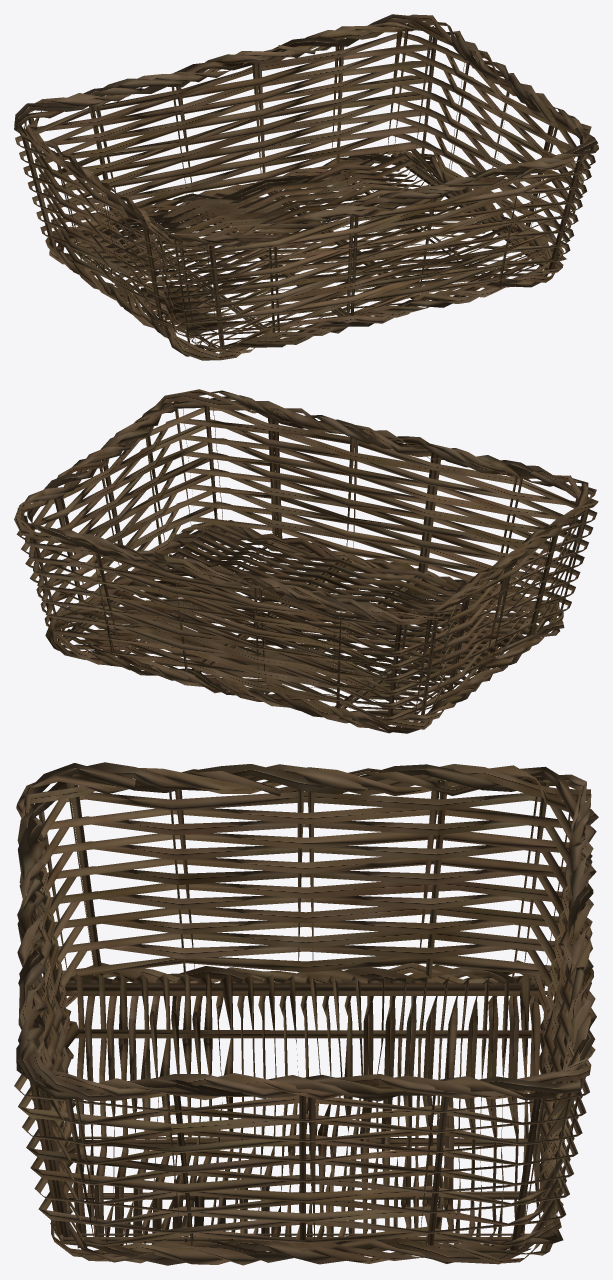
Rendered from basket.glb.
The picture shows the model from 3 angles, top to bottom: view 1: azimuth 30°, elevation 25°; view 2: azimuth 150°, elevation 25°; view 3: azimuth 270°, elevation 25°; orthographic projection. The views are drawn at different scales.
Parts seen in each view (by area): view 1: wicker_basket_01; view 2: wicker_basket_01; view 3: wicker_basket_01.
Part boxes in pixels (box(x1,y1,x2,y2)): wicker_basket_01: box(14, 14, 598, 360); wicker_basket_01: box(14, 389, 598, 733); wicker_basket_01: box(14, 762, 598, 1265).
Size of the model in its own units: 0.383 by 0.1174 by 0.2939.
1 material, 1 textured.
